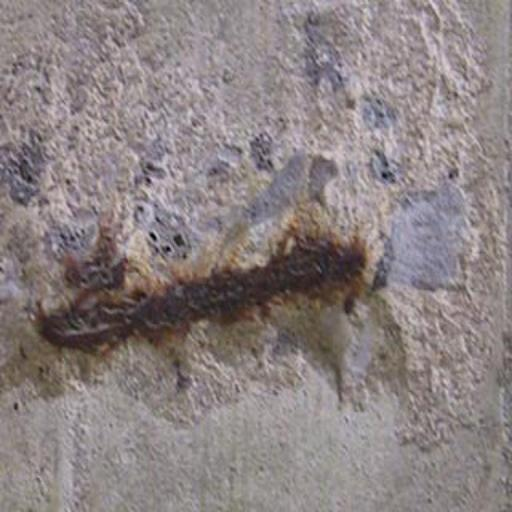spalling: (31, 190, 433, 413)
